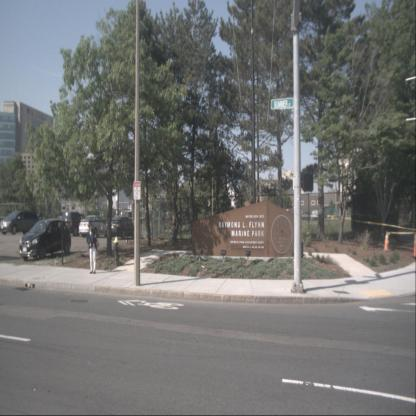human-pedestrian-adult: (86, 222, 100, 274)
movable_object-trafficcone: (383, 232, 391, 252), (411, 232, 416, 258)
vehicle-car: (19, 218, 71, 262), (0, 210, 40, 237), (78, 216, 110, 238), (106, 216, 136, 239), (62, 212, 90, 236), (310, 210, 320, 220), (304, 212, 310, 221)
